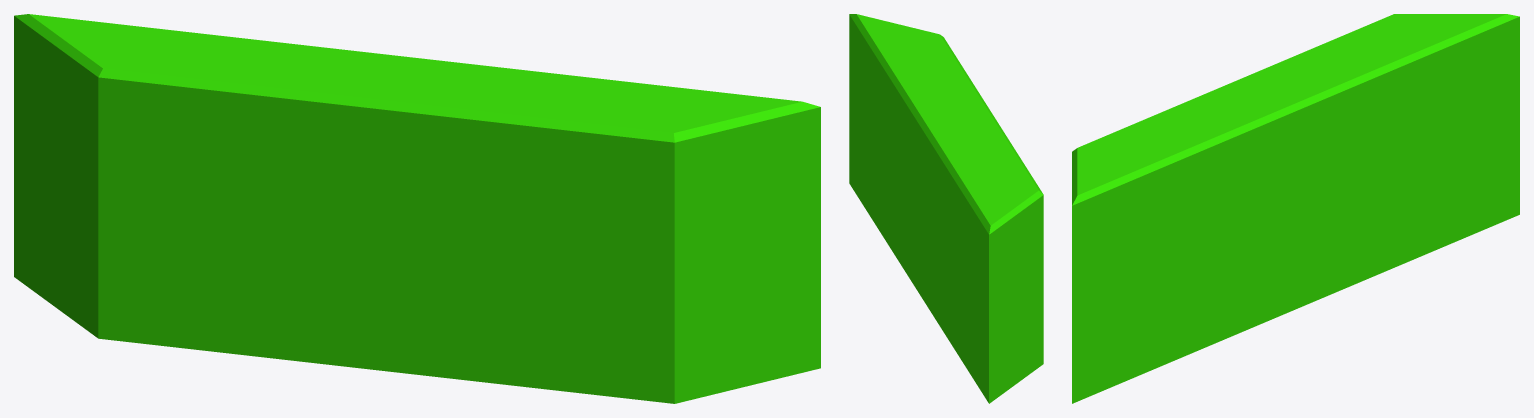
The model's file is diagonal_4x2.fbx.
3 views of the same model, side by side, from view 1: azimuth 30°, elevation 25°; view 2: azimuth 150°, elevation 25°; view 3: azimuth 270°, elevation 25° (orthographic). The views are drawn at different scales.
Parts seen in each view (by area): view 1: diagonal_4x2; view 2: diagonal_4x2; view 3: diagonal_4x2.
Boxes of the visible parts, x1,y1,x2,y2 form: diagonal_4x2: (14,14,820,403); diagonal_4x2: (849,14,1043,403); diagonal_4x2: (1072,14,1519,403).
Bounding box in the file's own units: 420 × 210 × 420.
